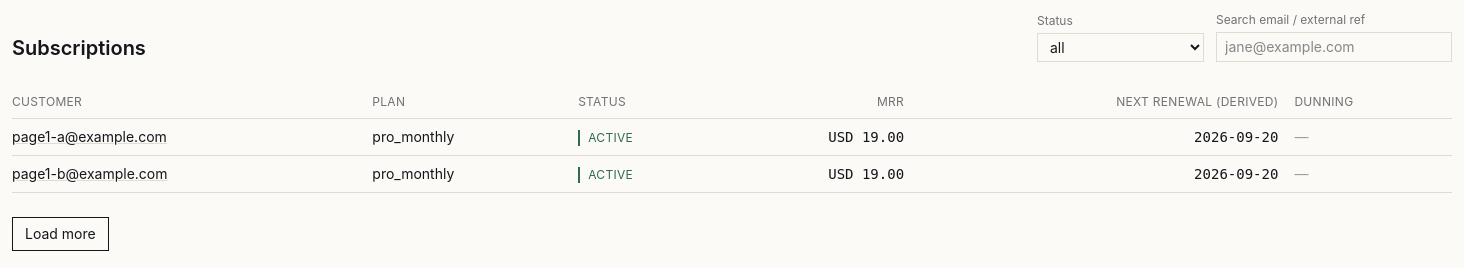
Scenario: SubscriptionsListPage load more pagination › appends page 2 rows to page 1 rows (does not replace them) and carries the active filters + cursor on the load-more request, hiding the button once nextCursor i
Expected: the link "page1-a@example.com" is shown, [12,128,167,145]
Expected: the link "page1-b@example.com" is shown, [12,165,168,182]
Select "active" in the dropdown labelled "Status": (1120, 48) [1037,33,1204,62]
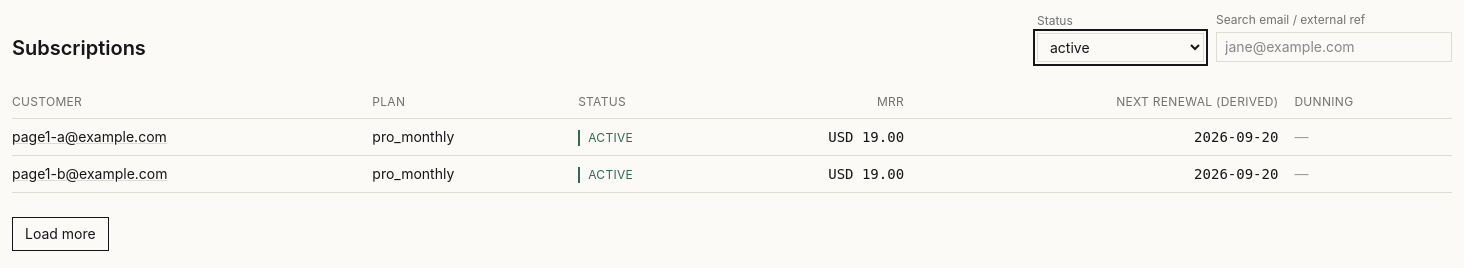
Click the button "Load more": (60, 234) [12,217,109,251]
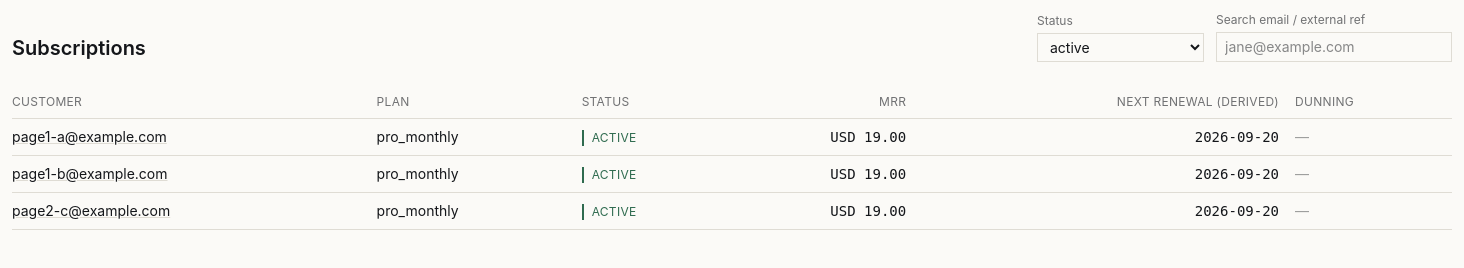
Expected: the link "page1-a@example.com" is shown, [12,128,167,145]
Now the link "page2-c@example.com" is shown, box [12,202,170,219]
Now the button "Load more" is gone
